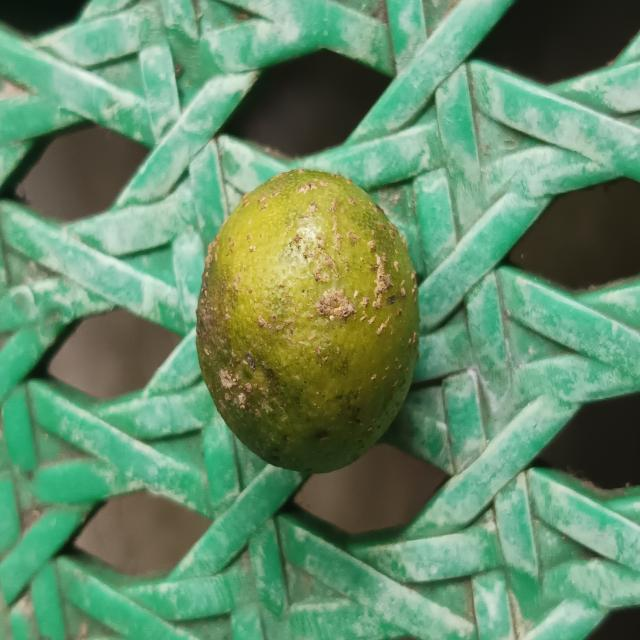scab: (192, 160, 424, 480)
